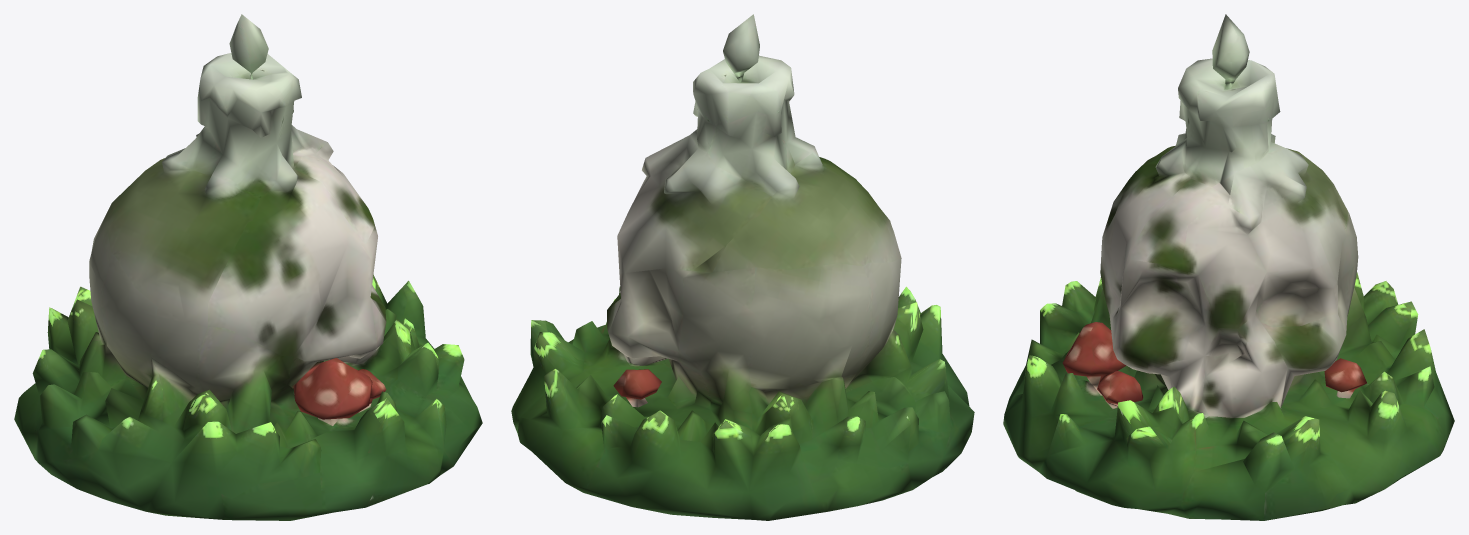
The model's file is gy_skull_candle-DIxiDEE6.glb.
3 views of the same model, side by side, from view 1: azimuth 30°, elevation 25°; view 2: azimuth 150°, elevation 25°; view 3: azimuth 270°, elevation 25° (orthographic).
Visible parts, largest first — view 1: tripo_node_26569bf8-de0b-46db-8286-e39564a15c79; view 2: tripo_node_26569bf8-de0b-46db-8286-e39564a15c79; view 3: tripo_node_26569bf8-de0b-46db-8286-e39564a15c79.
Boxes of the visible parts, x1=… form: tripo_node_26569bf8-de0b-46db-8286-e39564a15c79: x1=14, y1=14, x2=482, y2=520; tripo_node_26569bf8-de0b-46db-8286-e39564a15c79: x1=511, y1=14, x2=974, y2=520; tripo_node_26569bf8-de0b-46db-8286-e39564a15c79: x1=1003, y1=14, x2=1454, y2=520.
Size of the model in its own units: 0.9954 by 1 by 0.9975.
Materials: 1 (1 with a texture image).
